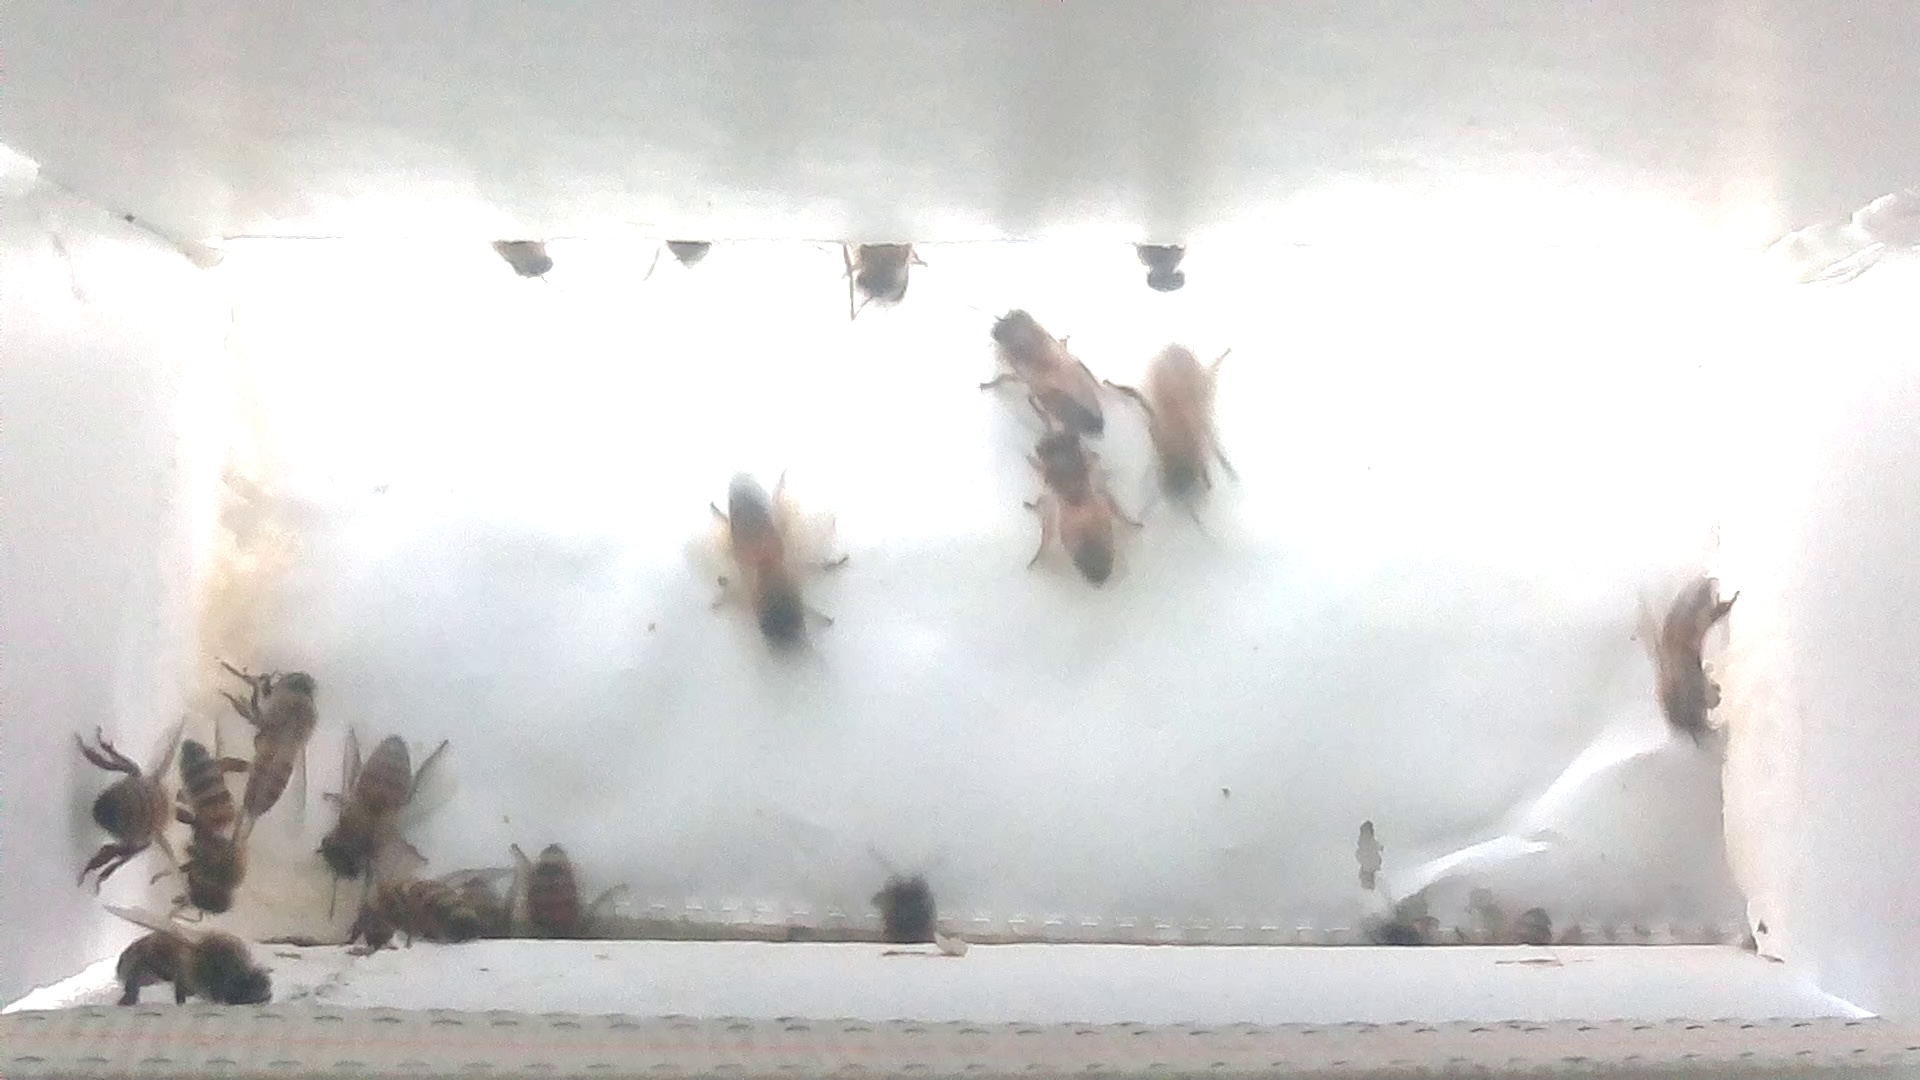bee: (694, 465, 861, 674), (74, 880, 305, 1018), (1105, 320, 1249, 533), (996, 396, 1146, 593), (964, 284, 1120, 456), (152, 727, 280, 920), (303, 700, 429, 895), (1625, 560, 1746, 760), (53, 705, 186, 881), (208, 641, 334, 823), (501, 818, 621, 960), (324, 849, 477, 955), (816, 225, 938, 328), (480, 224, 564, 305), (636, 225, 721, 285)
